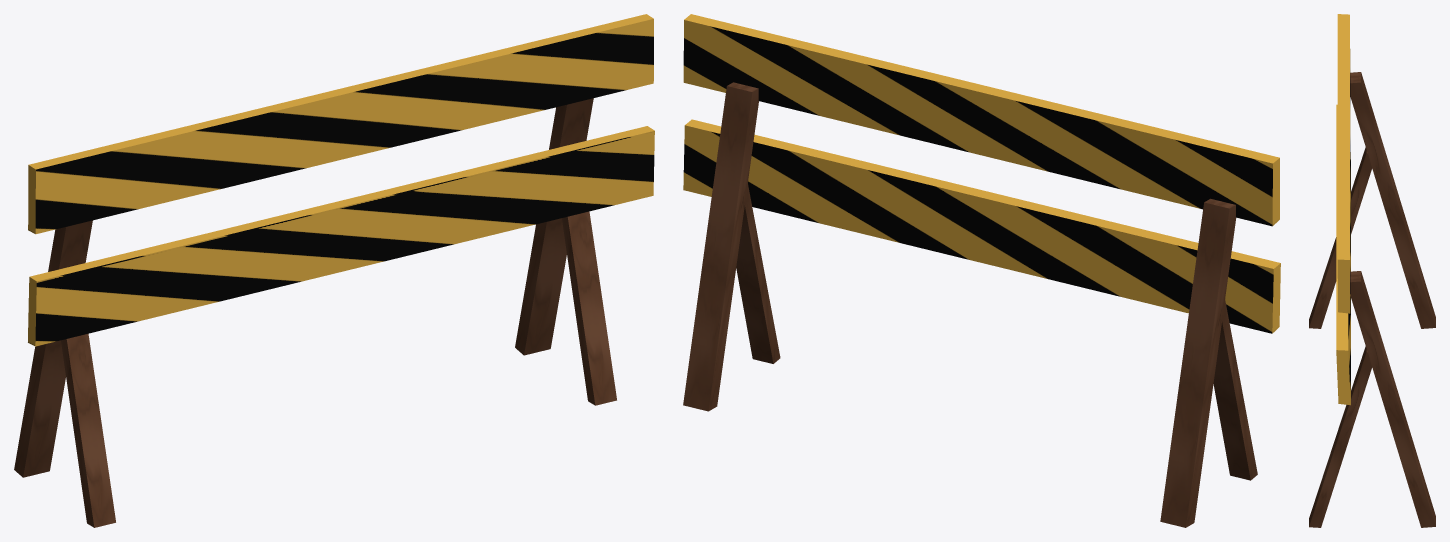
The model's file is CityKit2.fbx_RoadBarrier.fbx.
3 views of the same model, side by side, from view 1: azimuth 30°, elevation 25°; view 2: azimuth 150°, elevation 25°; view 3: azimuth 270°, elevation 25° (orthographic). The views are drawn at different scales.
Visible parts, largest first — view 1: RoadBarrier; view 2: RoadBarrier; view 3: RoadBarrier.
Boxes of the visible parts, x1,y1,x2,y2 form: RoadBarrier: (14,14,654,527); RoadBarrier: (683,14,1280,527); RoadBarrier: (1309,14,1435,527).
Bounding box in the file's own units: 333 × 183 × 72.74.
Materials: 1 (1 with a texture image).
